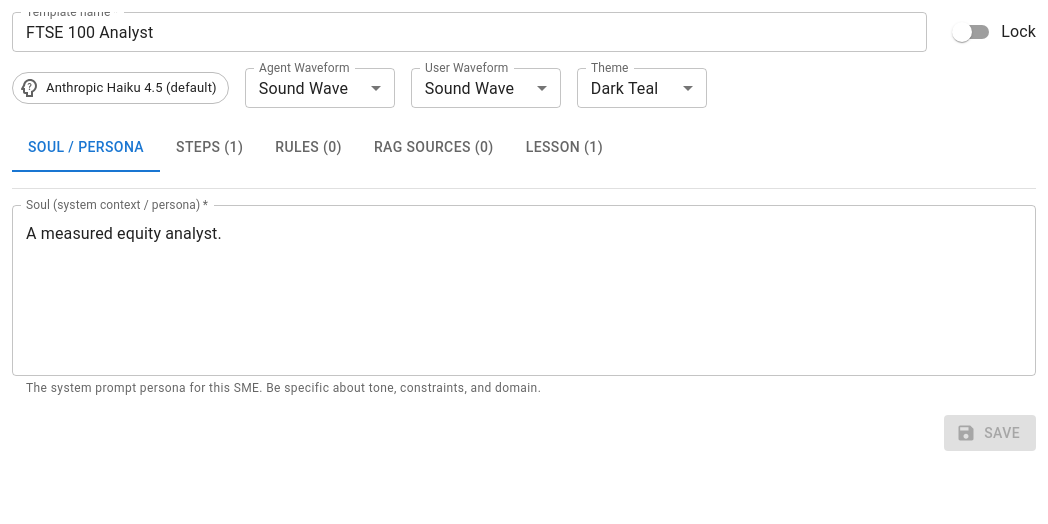
Scenario: SmeEditor › switches to the Lesson tab and renders LessonEditor controls
Click the tab "Lesson (1)" at (564, 148), box [510,124,619,172]
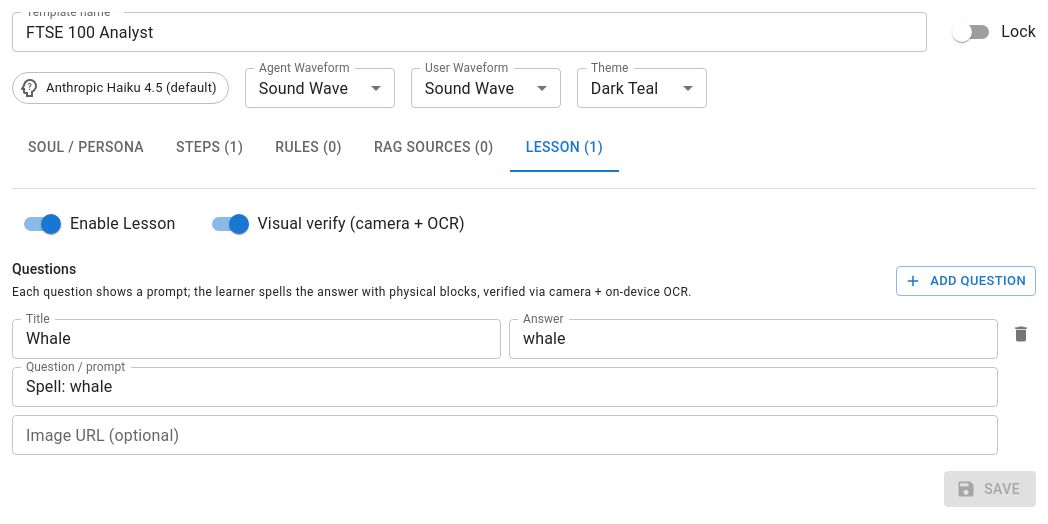
Result: the heading "Questions" is shown at [12,261,76,277]
Result: the field named "Question 1 title" holds "Whale" at [12,319,501,359]
